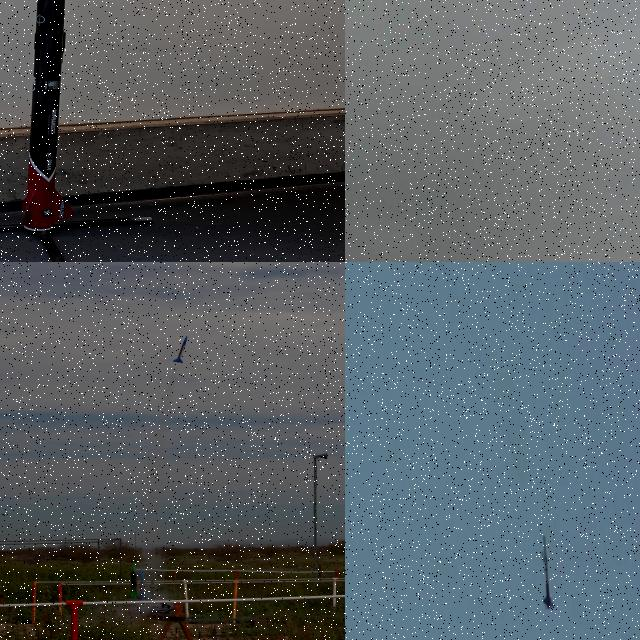Rocket: (22, 0, 74, 231), (541, 532, 554, 610), (172, 335, 188, 364), (128, 562, 140, 600), (138, 568, 150, 601), (148, 576, 158, 601)
